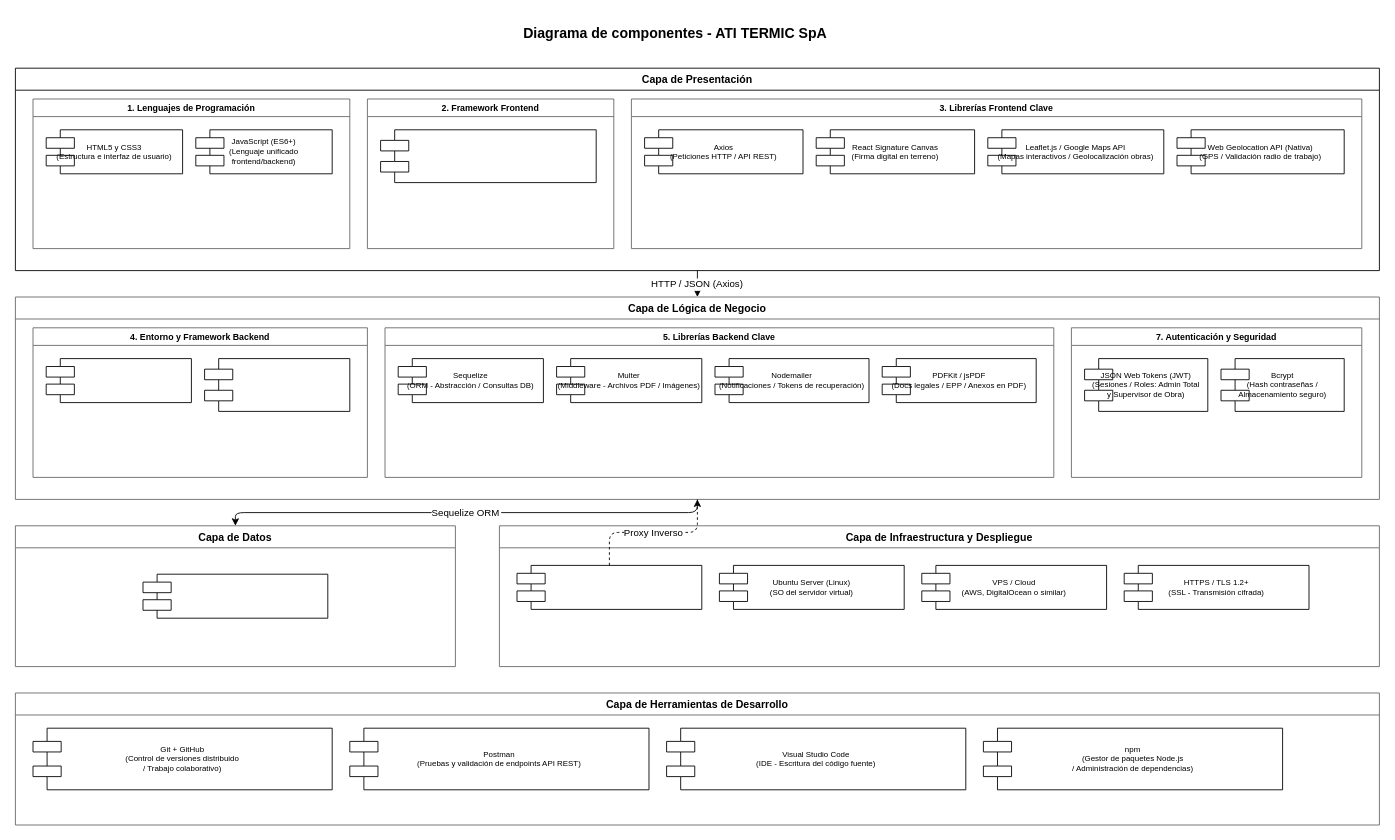
The diagram is 1395 pixels wide and 840 high, and some of its shapes have lost their labels. The shapes that lost their labels are listed below. From the top down, each one's centre as x and y in pixels, then its label:
At [488,156]: "React.js (SPA - Single Page Application Responsiva / Mobile Adaptable)".
At [118,380]: "Node.js (Entorno de ejecución del servidor)".
At [277,384]: "Express.js (Framework / Enrutamiento / API REST Lógica de negocio)".
At [235,595]: "MySQL (RDBMS) (Consistencia / Integridad referencial y transaccional)".
At [609,587]: "Nginx (Proxy Inverso → API Node.js)".
